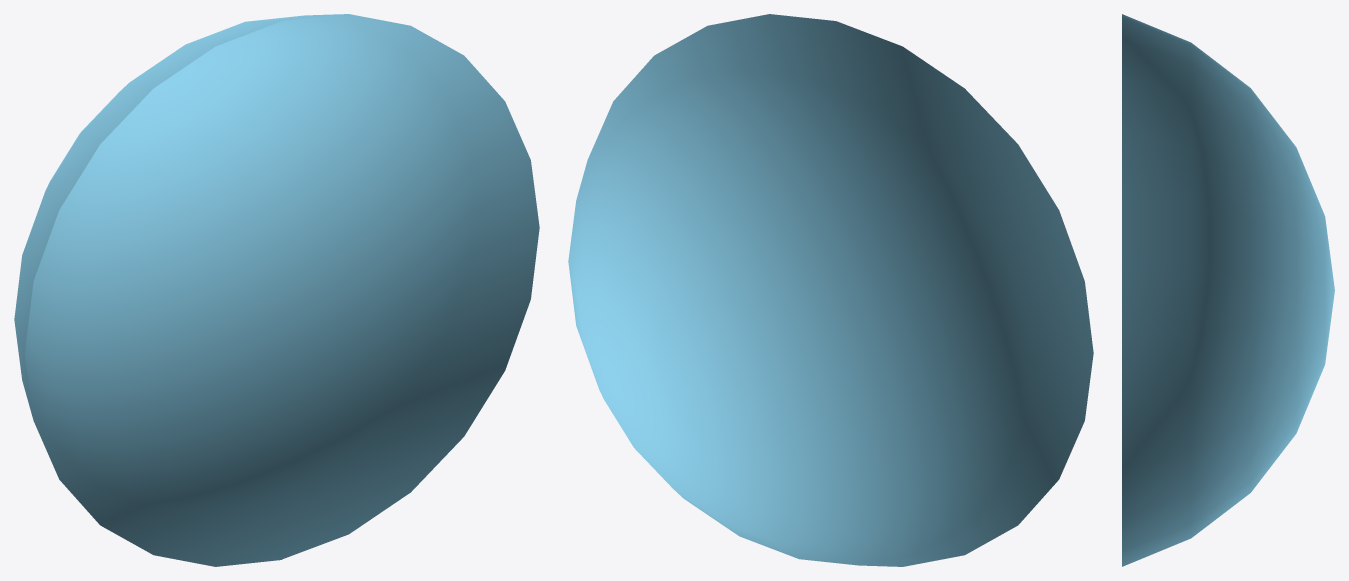
Rendered from model_scale.obj.
3 renders of one model, left to right at view 1: azimuth 30°, elevation 25°; view 2: azimuth 150°, elevation 25°; view 3: azimuth 270°, elevation 25°, orthographic. The views are drawn at different scales.
Parts seen in each view (by area): view 1: mesh1_mesh1-geometry; view 2: mesh1_mesh1-geometry; view 3: mesh1_mesh1-geometry.
Part boxes in pixels (box(x1,y1,x2,y2)): mesh1_mesh1-geometry: box(14, 14, 539, 566); mesh1_mesh1-geometry: box(568, 14, 1093, 566); mesh1_mesh1-geometry: box(1122, 14, 1334, 566).
Bounding box in the file's own units: 0.1678 × 0.1678 × 0.0644.
